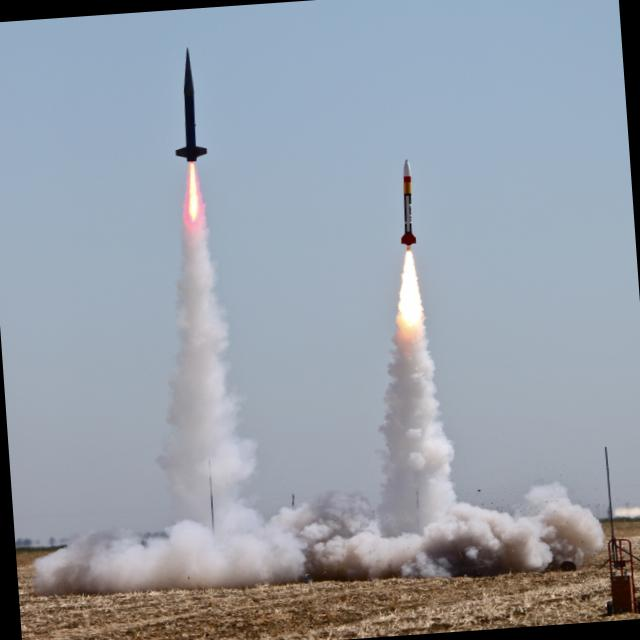rocket: (164, 41, 226, 254), (391, 158, 427, 328)
